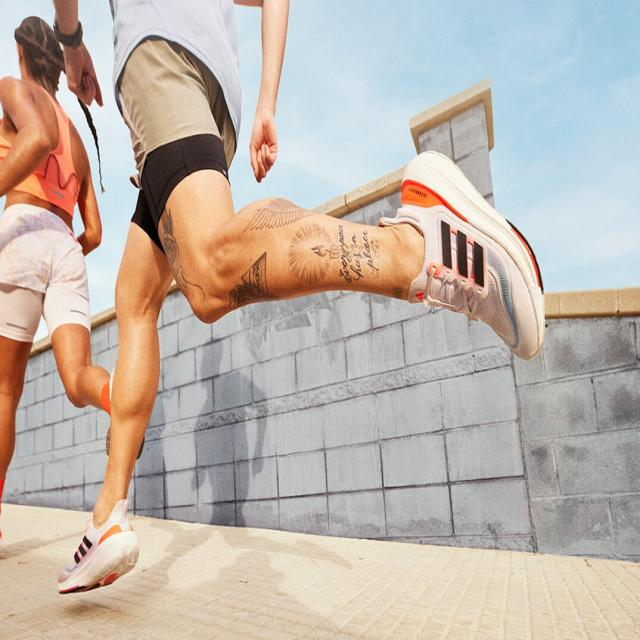adidas logo: (430, 207, 504, 312), (66, 525, 98, 576)
